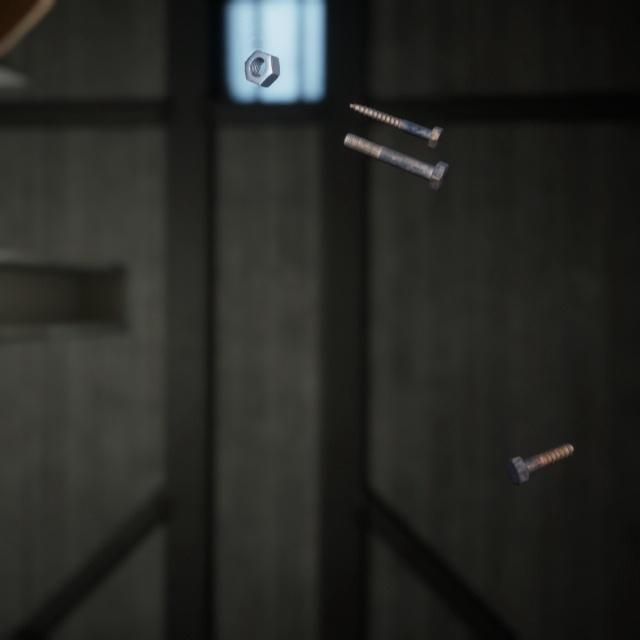bolt: (339, 116, 453, 182), (345, 87, 448, 141), (501, 418, 578, 468)
nut: (240, 34, 284, 81)
